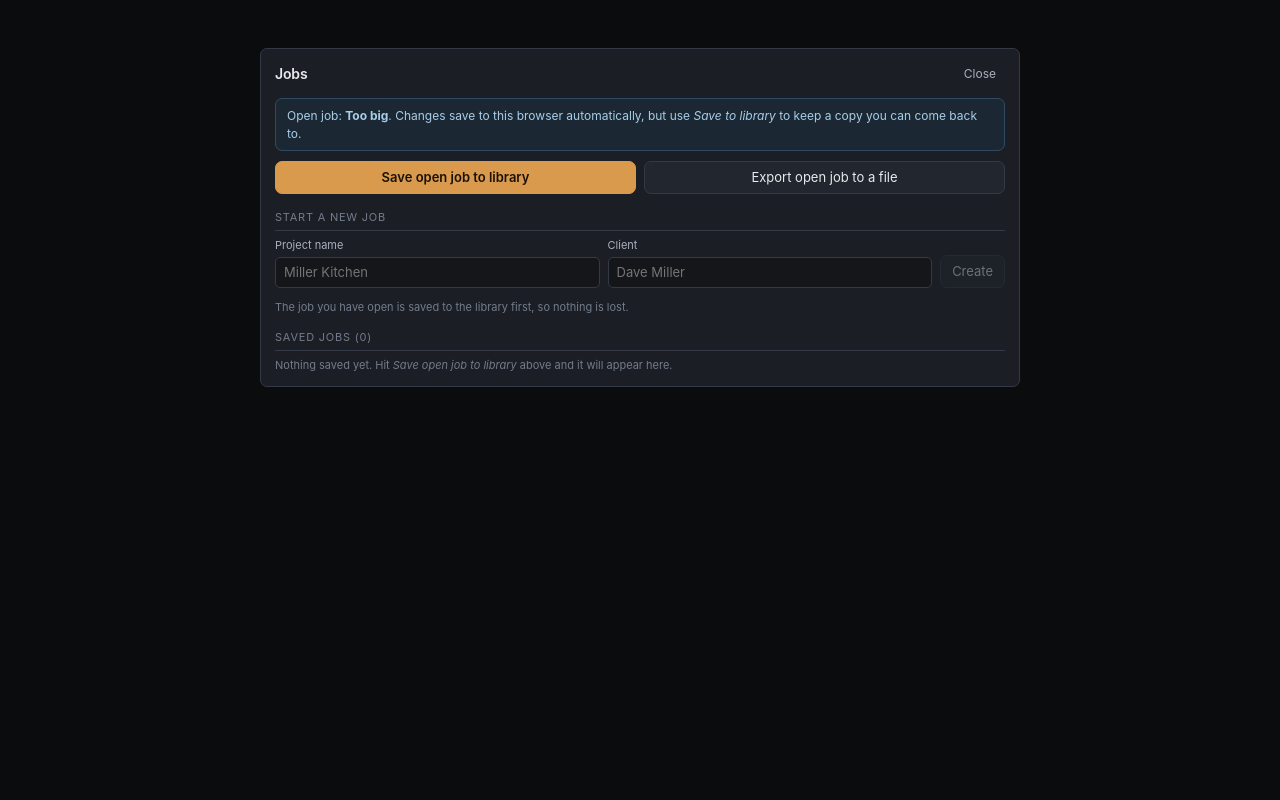
Test case: JobsPanel when storage refuses the write › says the save failed instead of looking like it worked
This screenshot has width=1280, height=800.
Click the button "Save open job to library" at (456, 178), box [275,161,636,194]
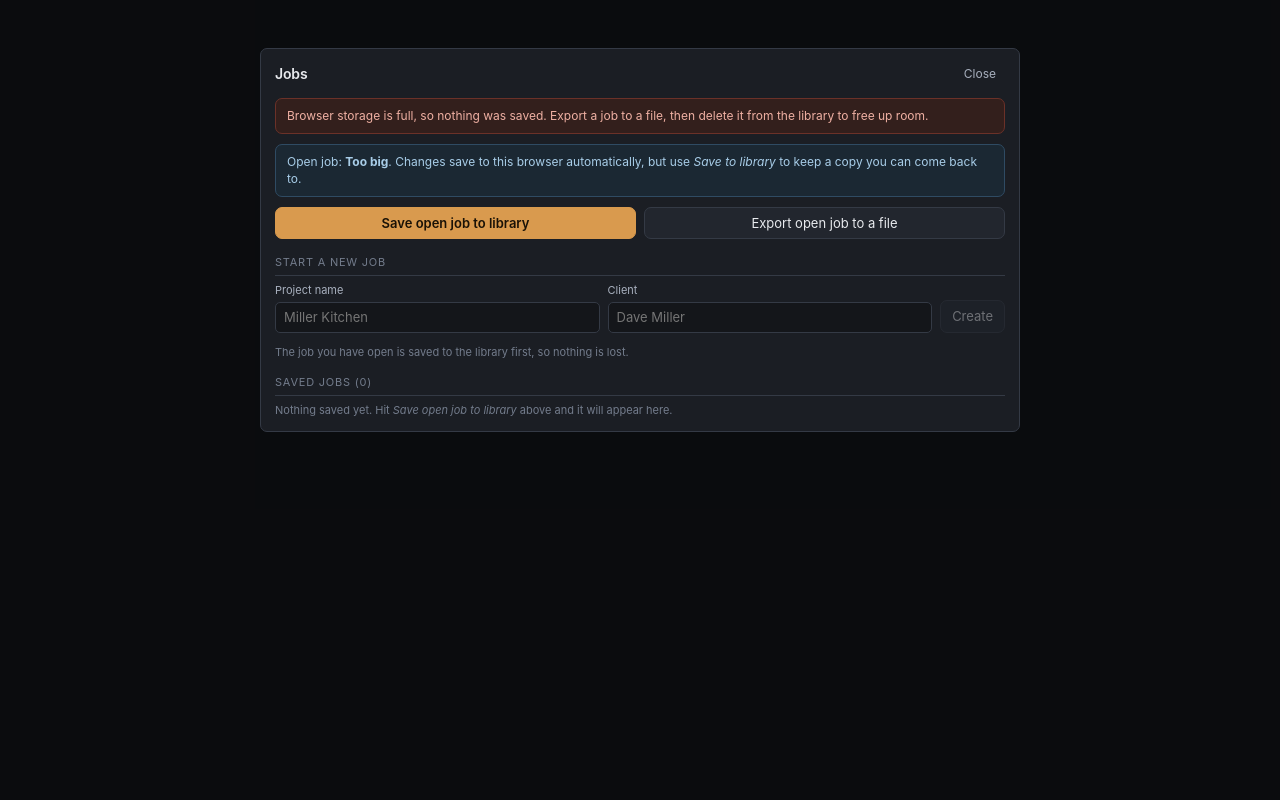
Check: the text with class "bad" is shown, box [275,98,1005,134]
Check: the text with class "bad" shows "storage is full", box [287,108,928,123]
